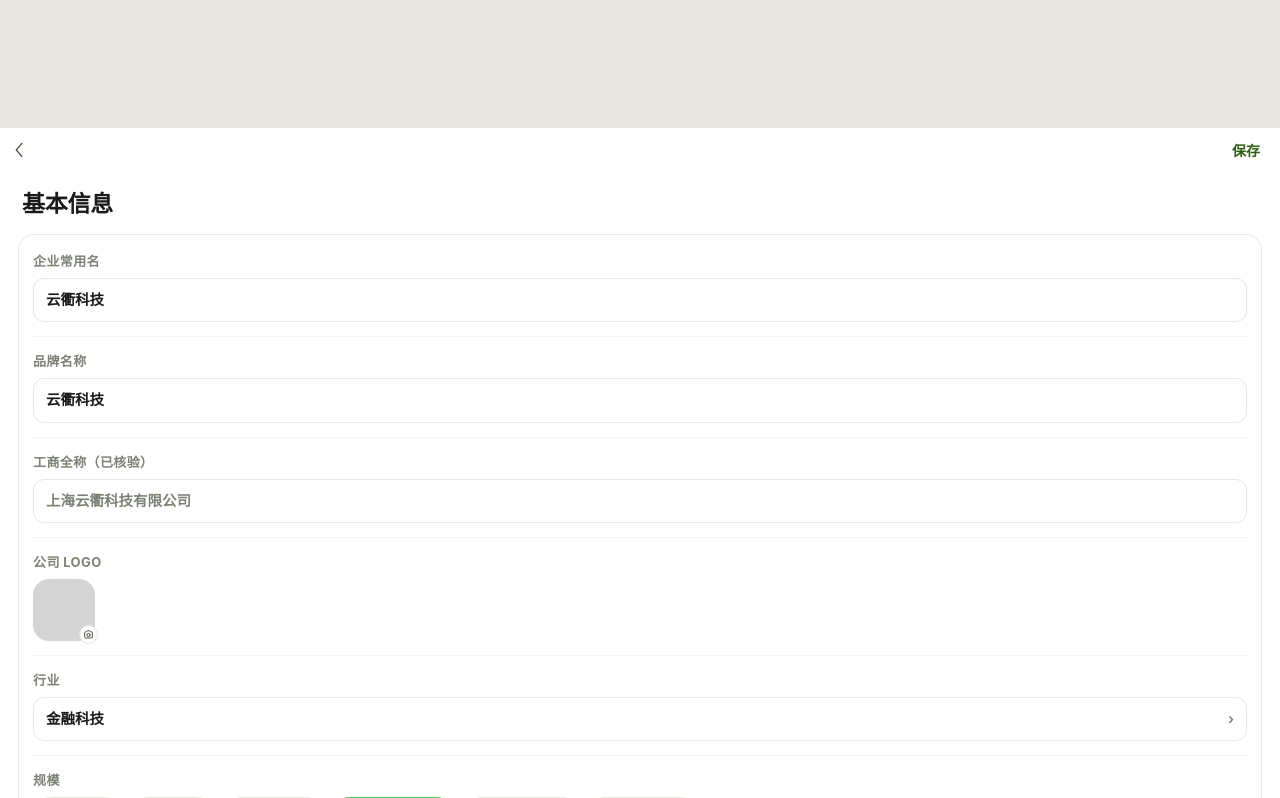
公司档案分区编辑 · Backend 完整 replacement › 保存提交完整 资料形 草稿，不派发 存公司自述/存公司LOGO，不读静态档
(page scrolled)
Replace the text in the field named "品牌名称" with "新品牌" at (640, 401), box [33,378,1247,423]
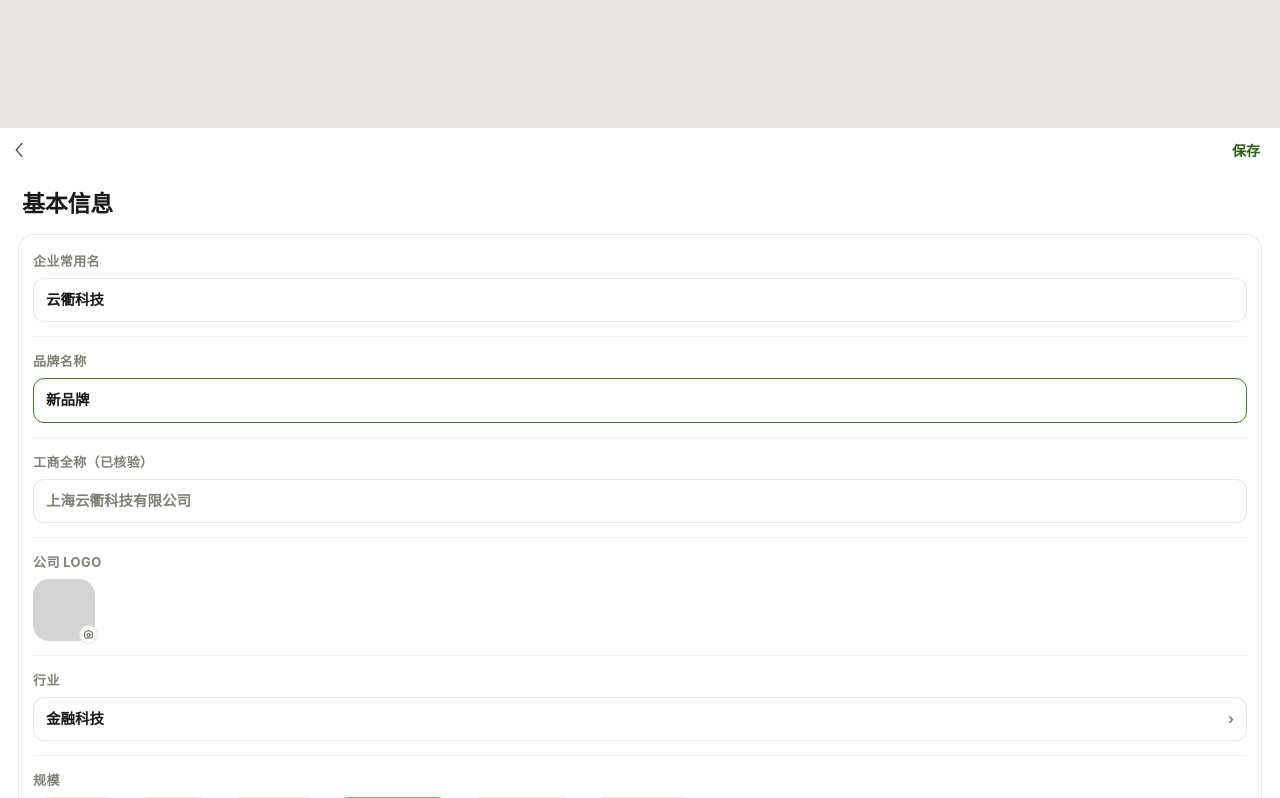
Click the button "保存" at (1242, 150), box [1222,134,1262,166]
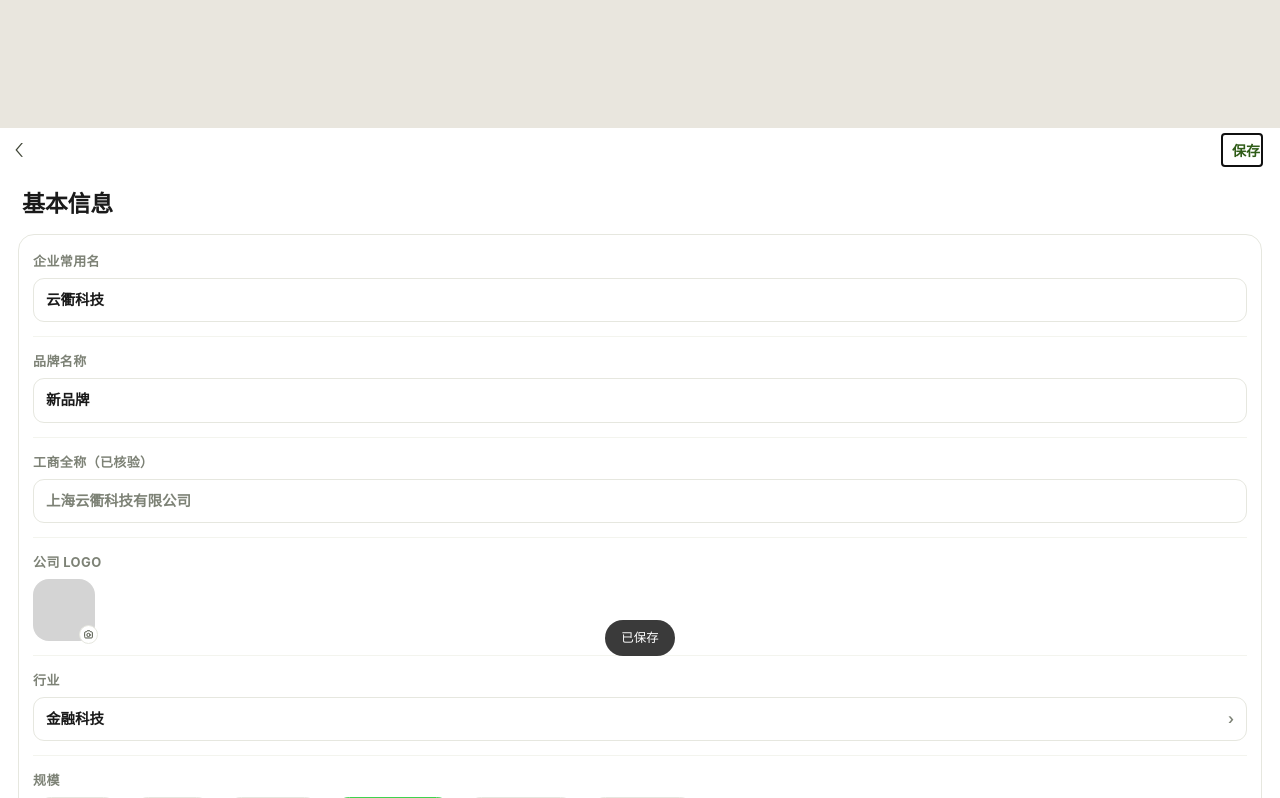
Expected: the text "已保存" is shown, [605,620,675,656]
